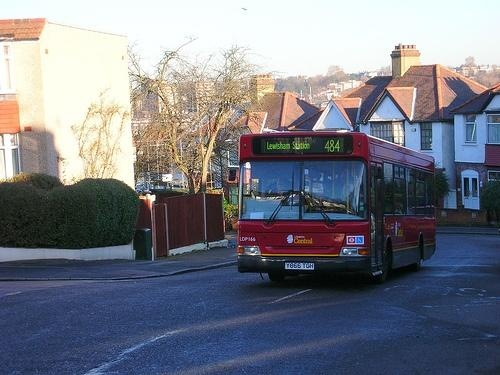bus: (226, 130, 437, 290)
